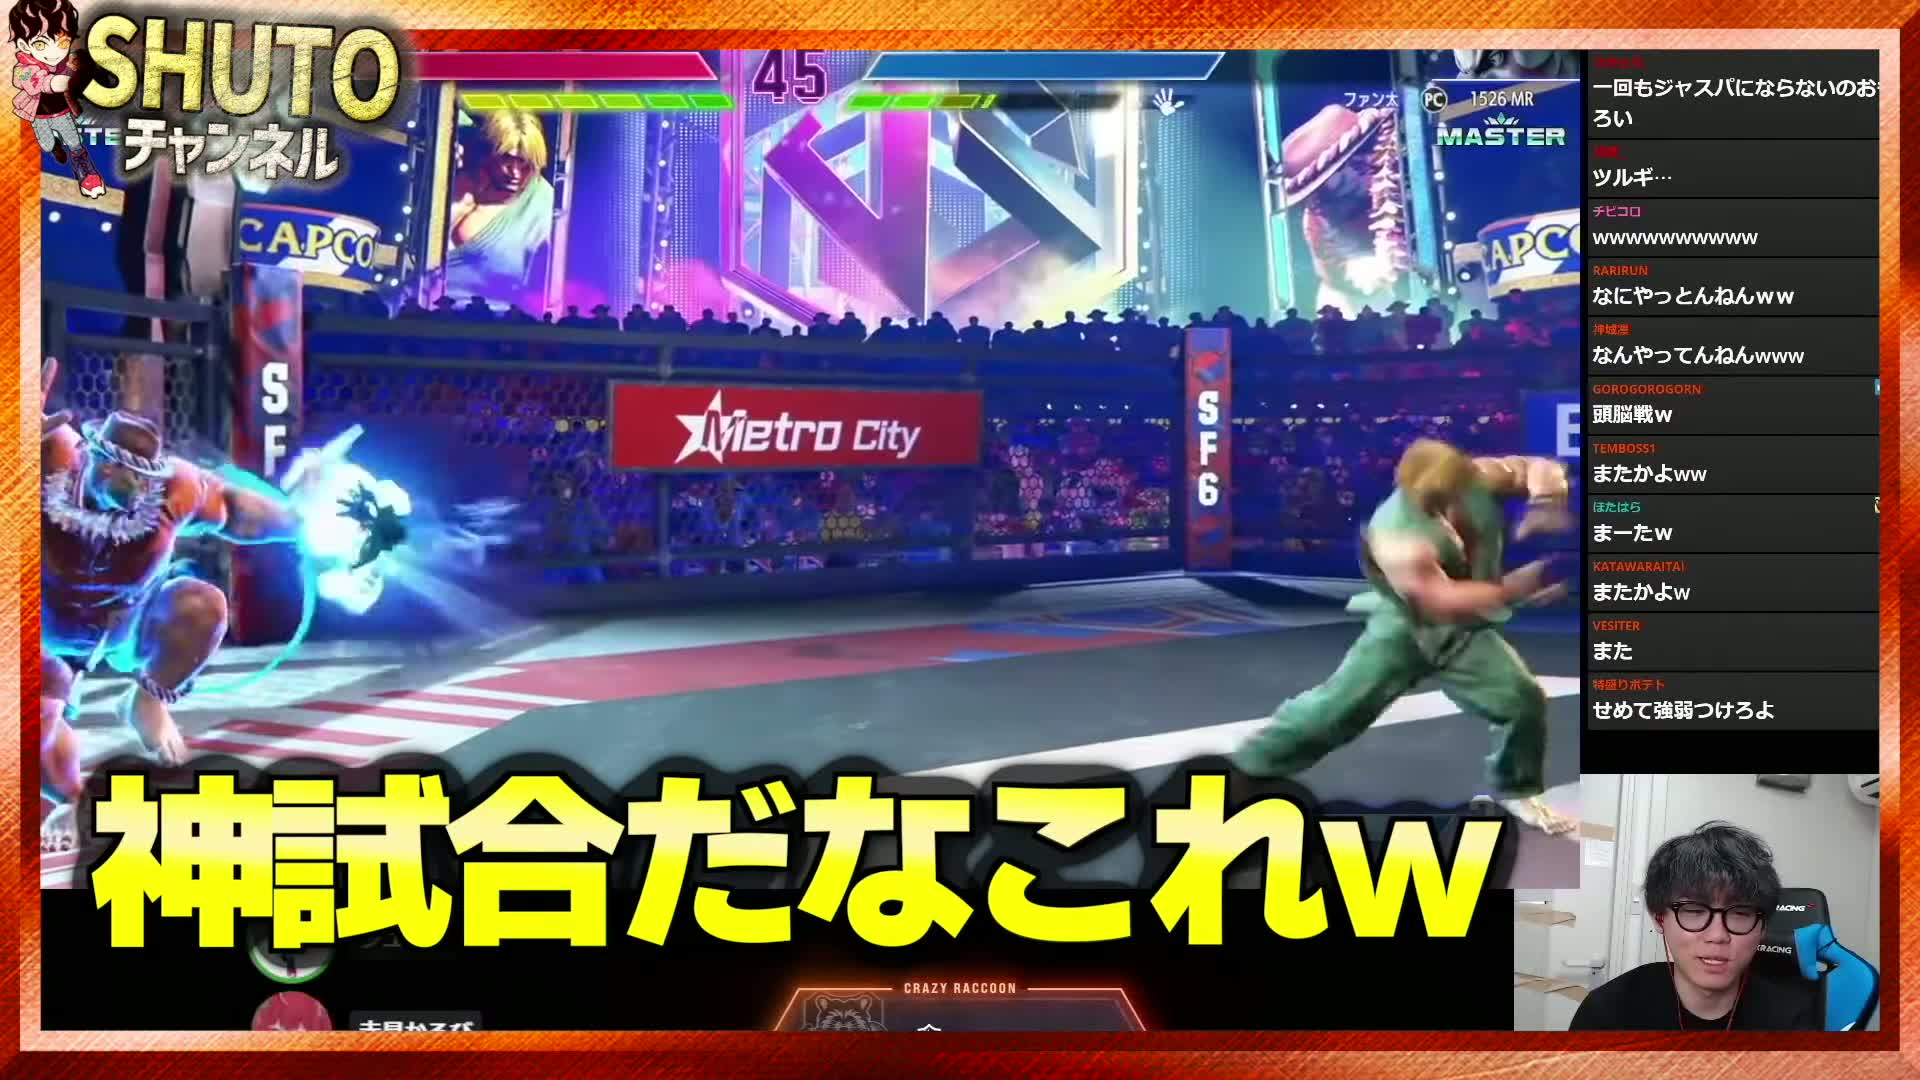stream_tag: (1516, 775, 1884, 1029)
